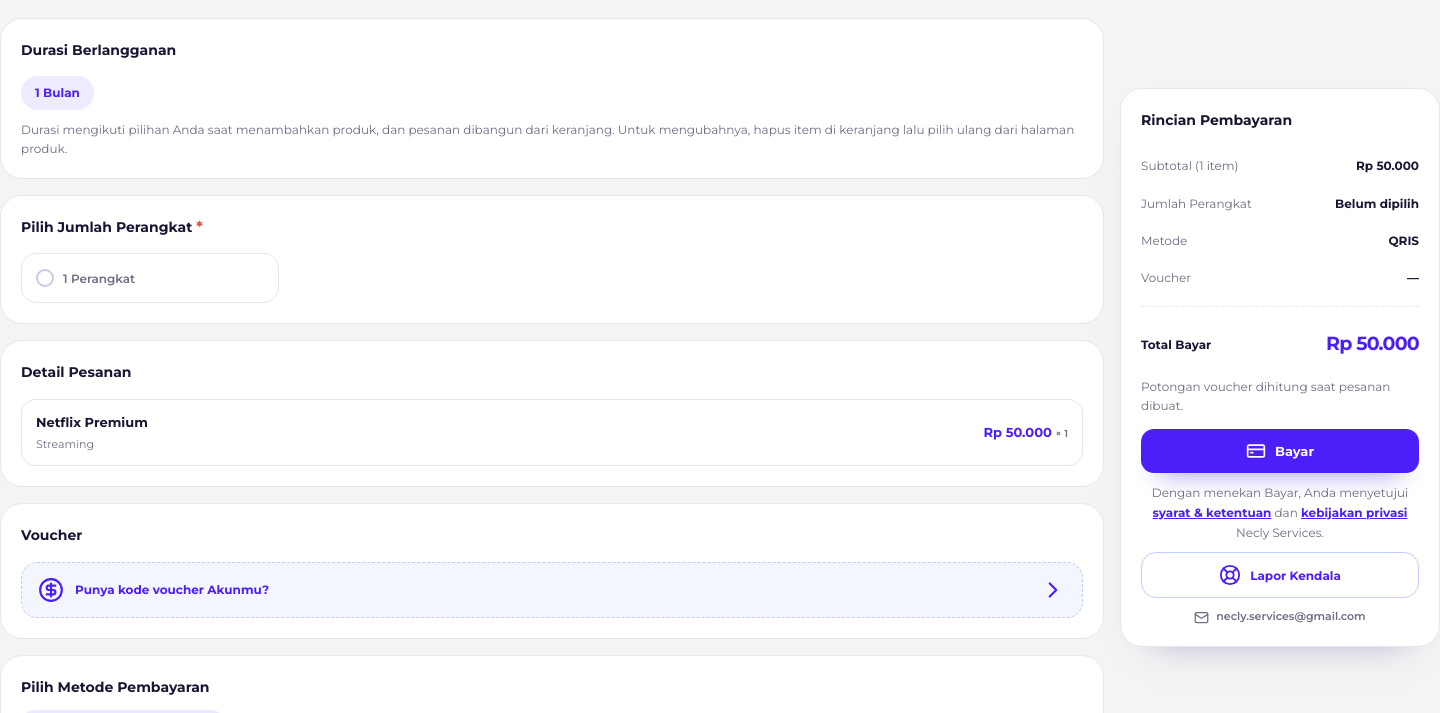
CheckoutCommerceClient › mewajibkan pemilihan jumlah perangkat sebelum membayar
Expected: the heading "Pilih Jumlah Perangkat *" is shown, [21, 217, 203, 236]
Click the button "Bayar" at (1280, 451), box [1141, 429, 1419, 473]
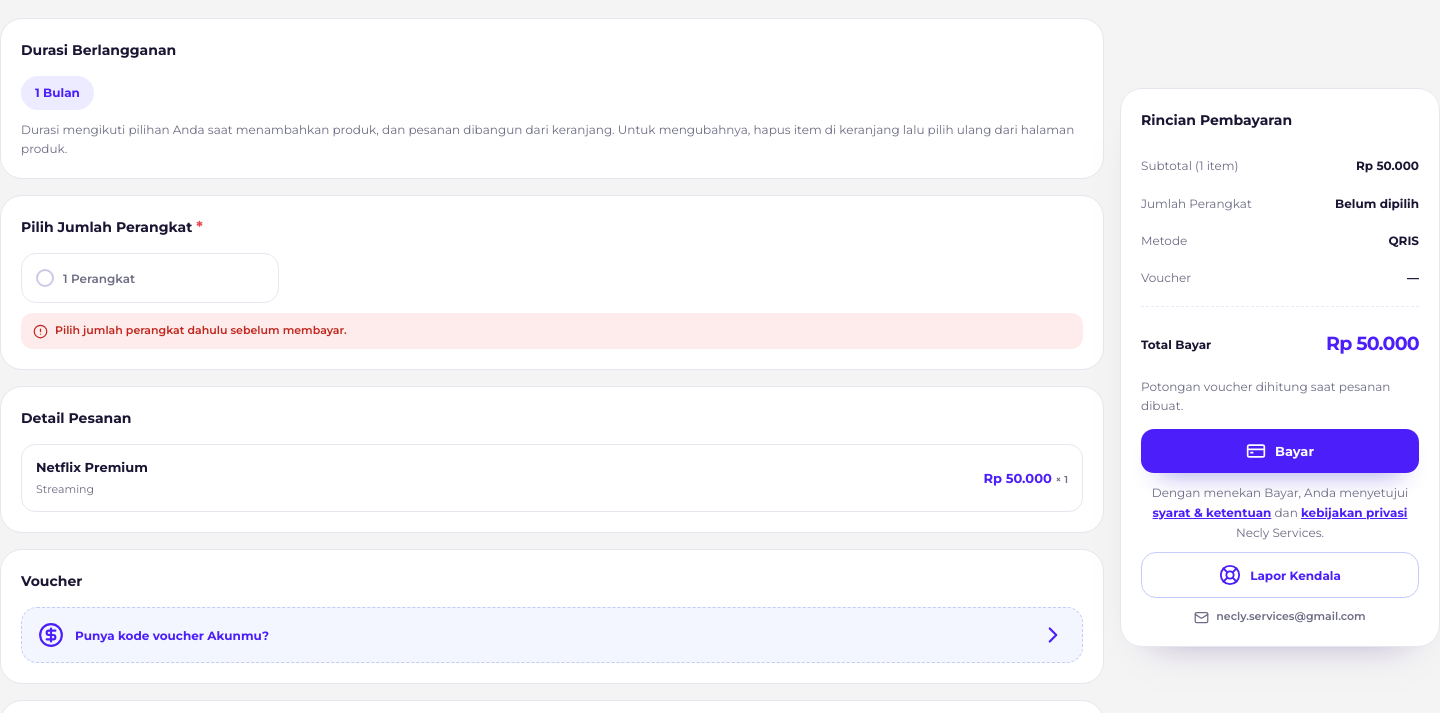
Expected: the message reads "Pilih jumlah perangkat dahulu sebelum membayar.", [55, 323, 347, 337]
